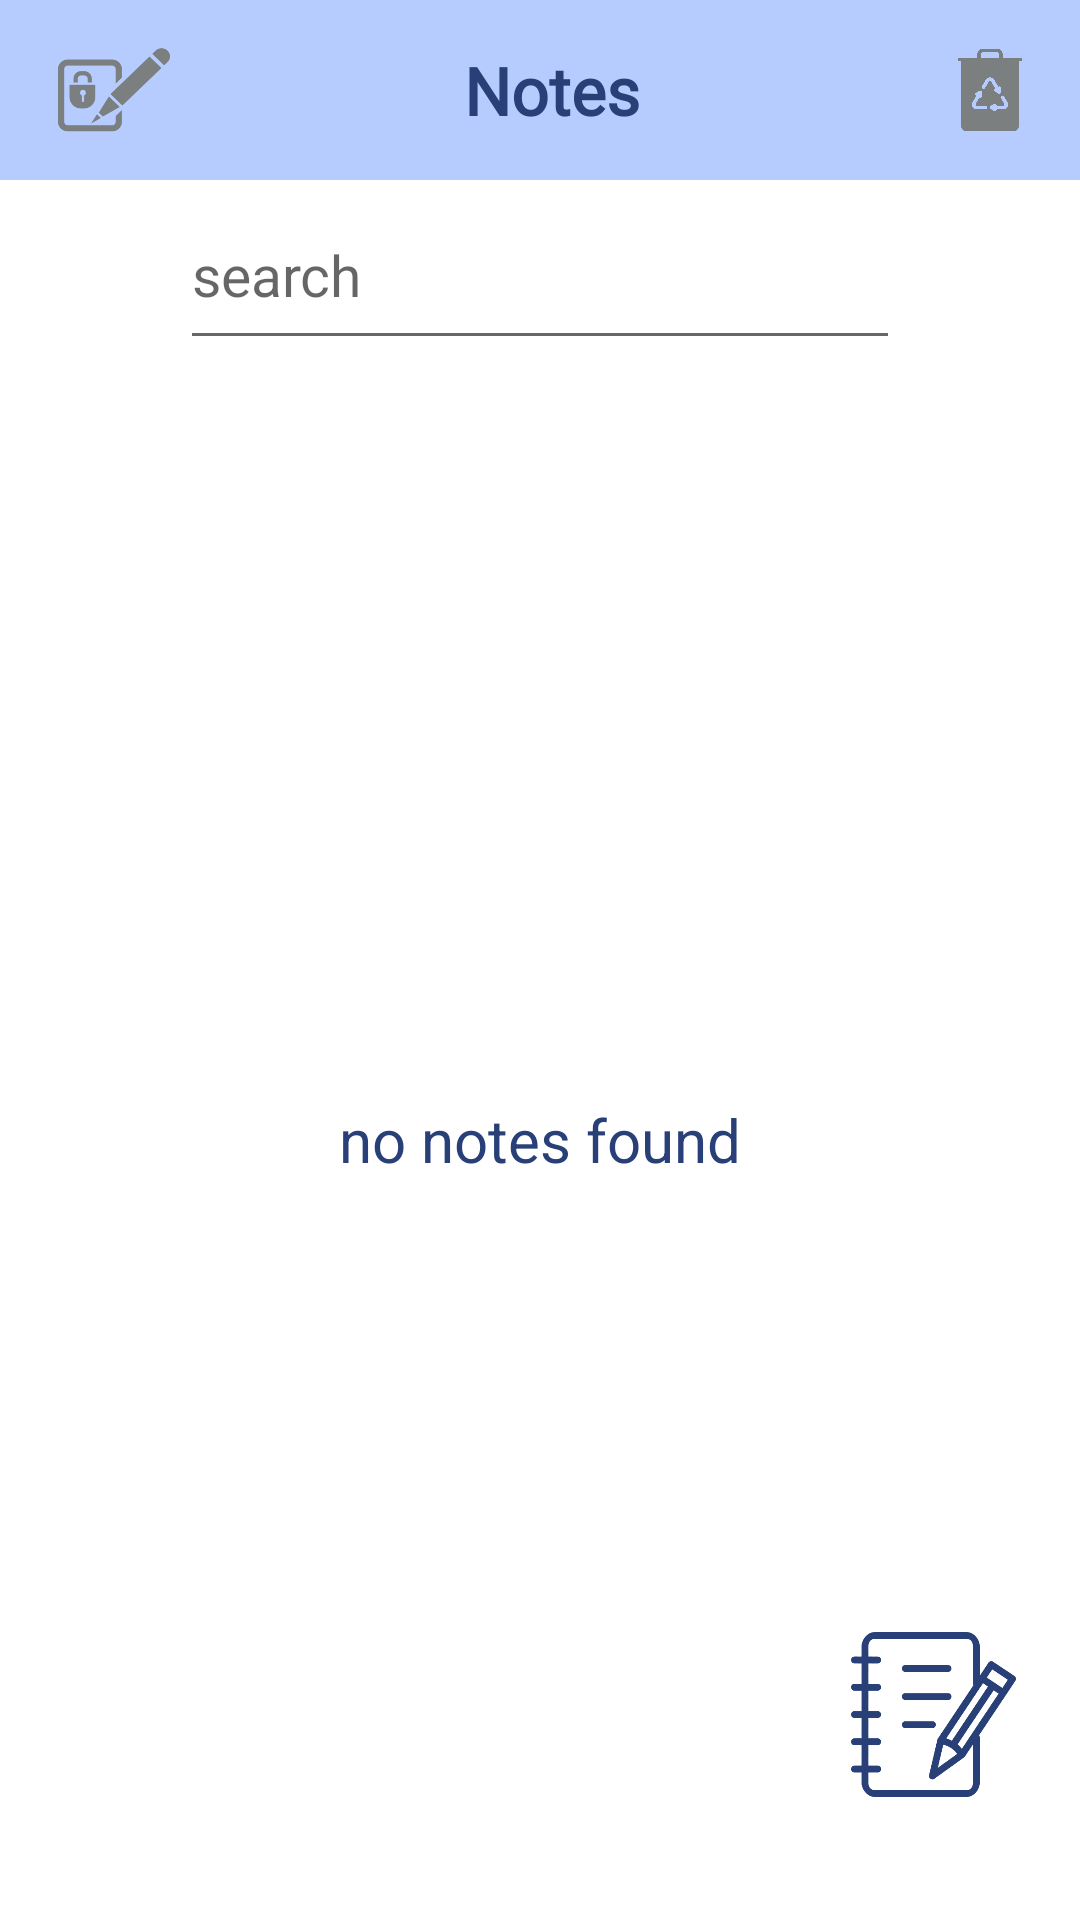

Icon click points for this 1080x1920 phone screenshot, format point (x, y):
add note: point (933, 1714)
trash: point (990, 90)
write password: point (114, 90)
